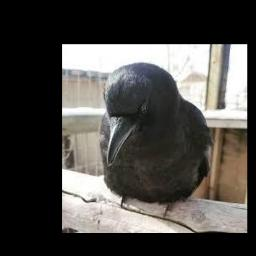Crow: (99, 62, 214, 219)
